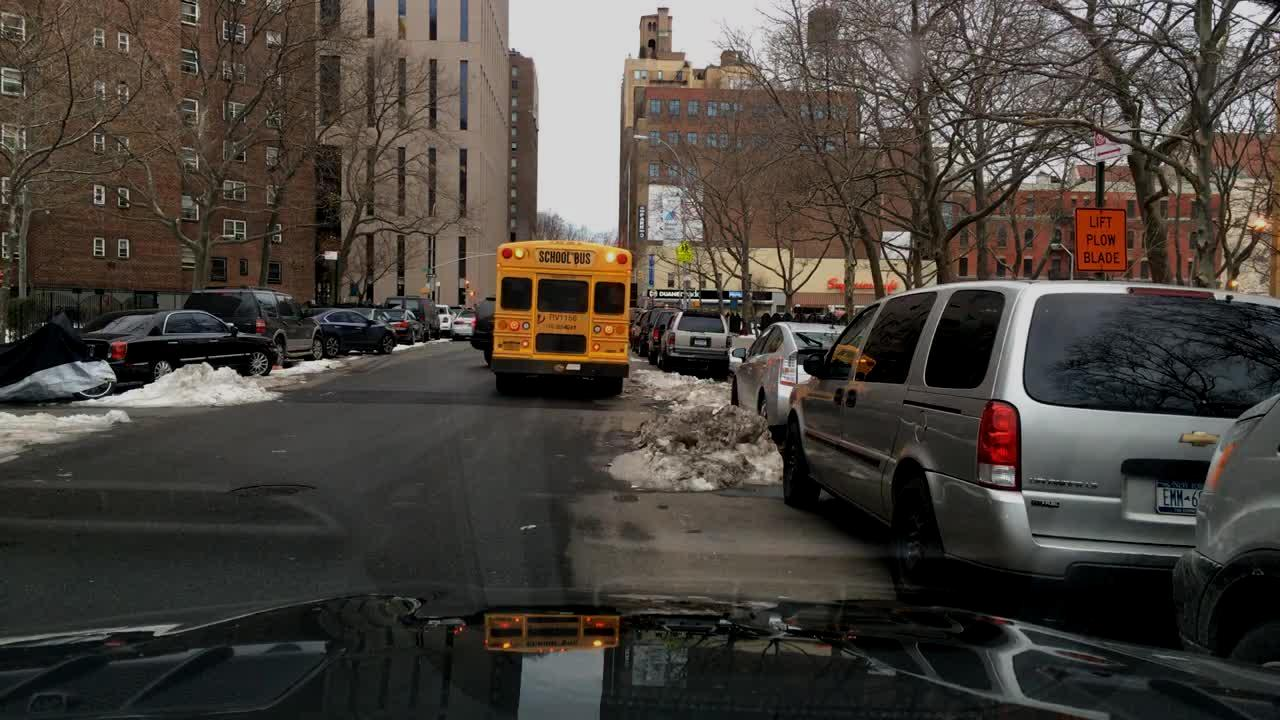chevrolet: (1174, 423, 1223, 457)
